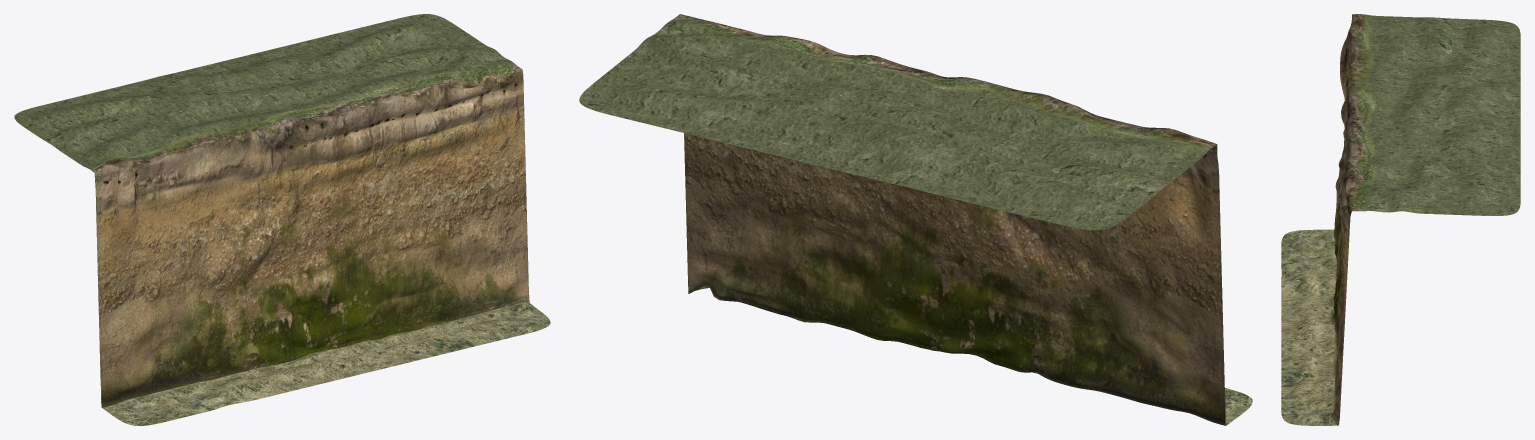
File: uploads_files_6367749_M_wall_010.glb
The picture shows the model from 3 angles, left to right: view 1: azimuth 30°, elevation 25°; view 2: azimuth 150°, elevation 25°; view 3: azimuth 270°, elevation 25°; orthographic projection. The views are drawn at different scales.
Parts seen in each view (by area): view 1: Plane; view 2: Plane; view 3: Plane.
Boxes of the visible parts, left/top/right/bottom form: Plane: left=14, top=14, right=550, bottom=425; Plane: left=579, top=14, right=1252, bottom=425; Plane: left=1281, top=14, right=1520, bottom=425.
Bounding box in the file's own units: 2 × 1.05 × 1.03.
Materials: 1 (1 with a texture image).
